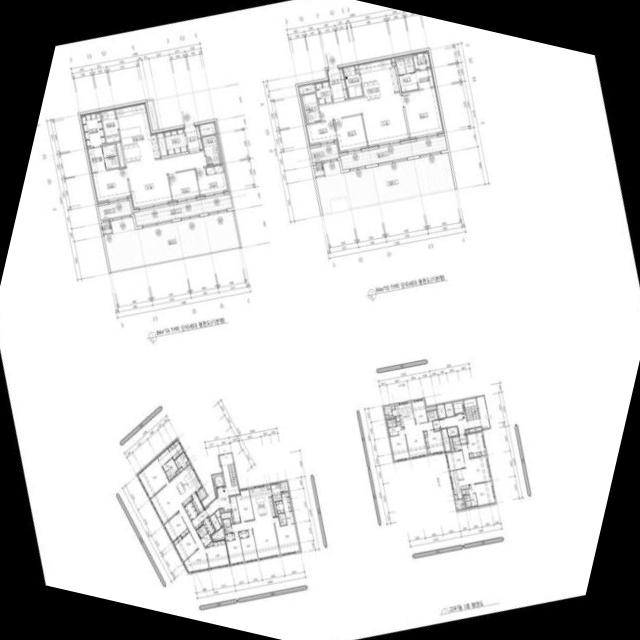background: (0, 0, 640, 640)
space_balconi: (97, 193, 232, 226), (340, 135, 447, 169), (310, 143, 339, 162), (196, 487, 206, 500), (279, 481, 288, 492)
space_bedroom: (402, 87, 444, 139), (91, 167, 130, 203), (137, 457, 169, 498), (334, 114, 367, 153), (195, 164, 229, 196), (273, 516, 300, 554), (168, 169, 200, 201), (305, 120, 337, 145), (172, 532, 198, 562), (164, 512, 189, 541), (205, 539, 230, 568), (390, 425, 409, 461), (468, 481, 495, 505), (235, 488, 254, 521), (226, 531, 244, 564), (240, 529, 258, 561), (423, 429, 444, 454), (467, 432, 486, 457), (411, 399, 428, 423), (446, 450, 465, 470), (225, 533, 235, 540), (239, 530, 248, 537)
space_dressroom: (80, 111, 106, 147), (416, 68, 435, 89), (412, 50, 431, 70), (167, 439, 183, 460), (281, 492, 291, 511), (275, 500, 284, 513)
space_elevator: (212, 474, 225, 488), (452, 400, 465, 414)
space_elevator_hall: (205, 453, 239, 516), (439, 413, 480, 434)
space_front: (326, 67, 348, 103), (184, 124, 203, 151), (314, 80, 332, 104), (191, 509, 208, 529), (229, 495, 240, 523), (202, 516, 215, 535), (184, 501, 197, 520), (459, 434, 468, 444), (432, 420, 440, 430)
space_kitchen: (115, 102, 160, 165), (358, 57, 399, 99), (170, 463, 202, 506), (249, 485, 275, 520), (449, 468, 469, 498), (392, 401, 415, 427)
space_living_room: (150, 482, 208, 572), (319, 92, 409, 147), (126, 150, 206, 209), (231, 516, 280, 559), (461, 444, 491, 483), (404, 421, 433, 458)
space_multipurpose_space: (100, 108, 120, 143), (343, 65, 363, 98)
space_other: (163, 127, 187, 154), (476, 396, 490, 429), (147, 99, 158, 130), (191, 492, 204, 514), (156, 131, 167, 156), (174, 451, 188, 468), (199, 121, 215, 135), (270, 482, 281, 501), (441, 428, 450, 451), (116, 142, 124, 166), (298, 83, 315, 94), (210, 513, 221, 530), (212, 526, 224, 539), (444, 402, 454, 417), (214, 509, 222, 526), (221, 511, 232, 523), (437, 404, 446, 418), (447, 426, 458, 436), (455, 498, 464, 510), (383, 405, 392, 417), (469, 426, 481, 432), (175, 467, 183, 474), (450, 437, 454, 451), (274, 502, 278, 515), (426, 406, 436, 410), (206, 541, 213, 546), (355, 64, 359, 72), (391, 57, 395, 65), (186, 460, 190, 465), (391, 405, 395, 409), (396, 421, 400, 425), (215, 489, 217, 497), (462, 504, 465, 509), (465, 489, 468, 494), (267, 484, 270, 489), (465, 429, 469, 432), (455, 494, 458, 498), (219, 508, 223, 511), (385, 415, 389, 417)
space_outdoor_room: (313, 163, 324, 176), (101, 221, 111, 234)
space_staircase: (463, 398, 479, 421), (227, 463, 237, 486)
space_toilet: (86, 144, 119, 172), (202, 134, 221, 165), (302, 93, 320, 123), (398, 72, 418, 92), (162, 458, 178, 480), (157, 448, 172, 465), (387, 418, 398, 436), (464, 493, 477, 507), (395, 58, 406, 74), (404, 56, 414, 73), (201, 532, 212, 546), (222, 518, 232, 533), (426, 409, 438, 421), (452, 436, 461, 450), (285, 511, 294, 524), (200, 524, 207, 535), (197, 527, 204, 538), (279, 518, 287, 525), (278, 512, 285, 519)
